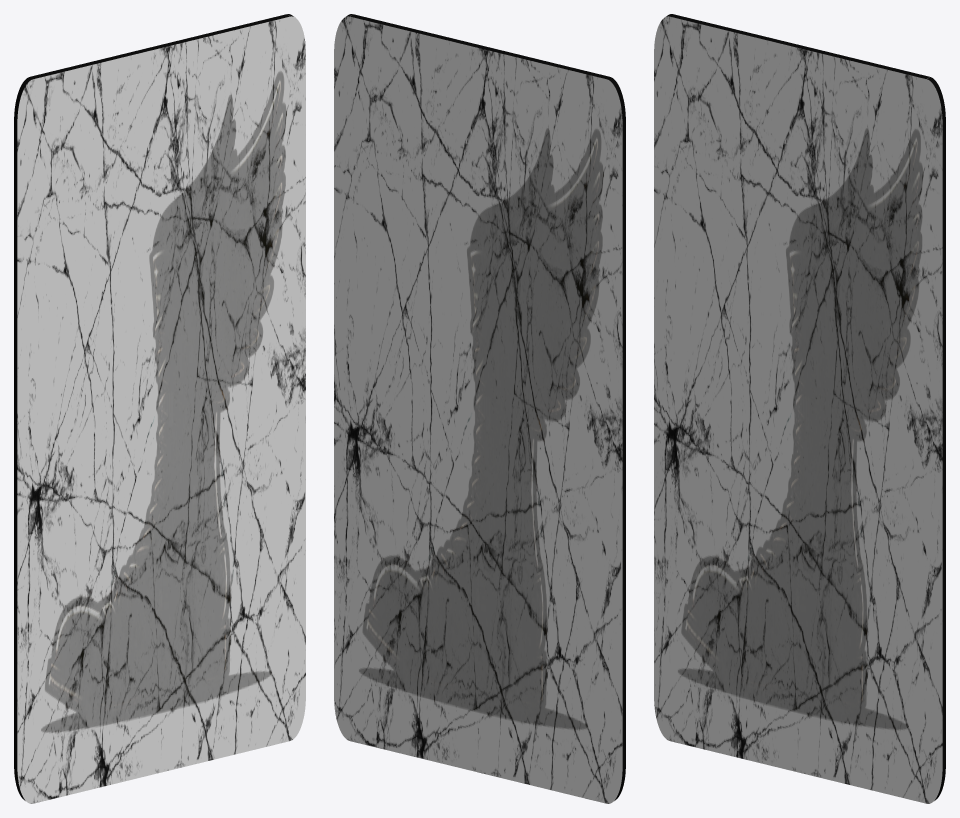
The model's file is BootCardGray.glb.
3 views of the same model, side by side, from view 1: azimuth 30°, elevation 25°; view 2: azimuth 150°, elevation 25°; view 3: azimuth 330°, elevation 25° (orthographic).
Visible parts, largest first — view 1: Cube; view 2: Cube; view 3: Cube.
Boxes of the visible parts, x1=… form: Cube: x1=14, y1=14, x2=305, y2=803; Cube: x1=334, y1=14, x2=625, y2=803; Cube: x1=654, y1=14, x2=945, y2=803.
Bounding box in the file's own units: 1 × 2.4 × 0.02.
Materials: 2 (1 with a texture image).
